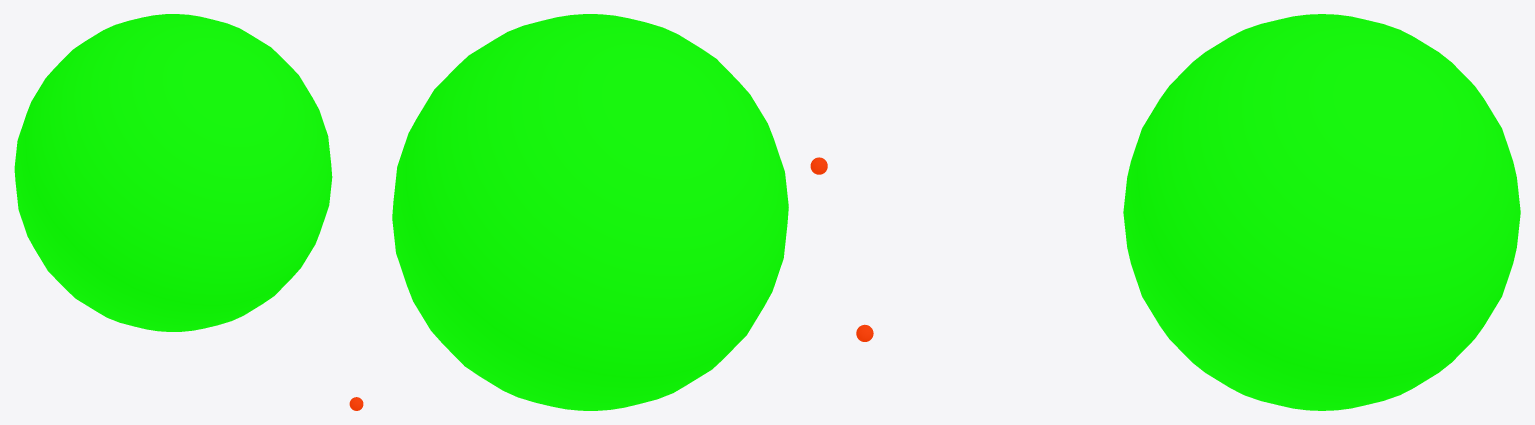
File: spheres.glb
The picture shows the model from 3 angles, left to right: view 1: azimuth 30°, elevation 25°; view 2: azimuth 150°, elevation 25°; view 3: azimuth 270°, elevation 25°; orthographic projection. The views are drawn at different scales.
Visible parts, largest first — view 1: Sphere.001; view 2: Sphere.001; view 3: Sphere.001.
Part boxes in pixels (x1,y1,x2,y2): Sphere.001: (14, 14, 332, 331); Sphere.001: (392, 14, 788, 410); Sphere.001: (1123, 14, 1520, 410).
Bounding box in the file's own units: 71.4 × 71.4 × 119.
